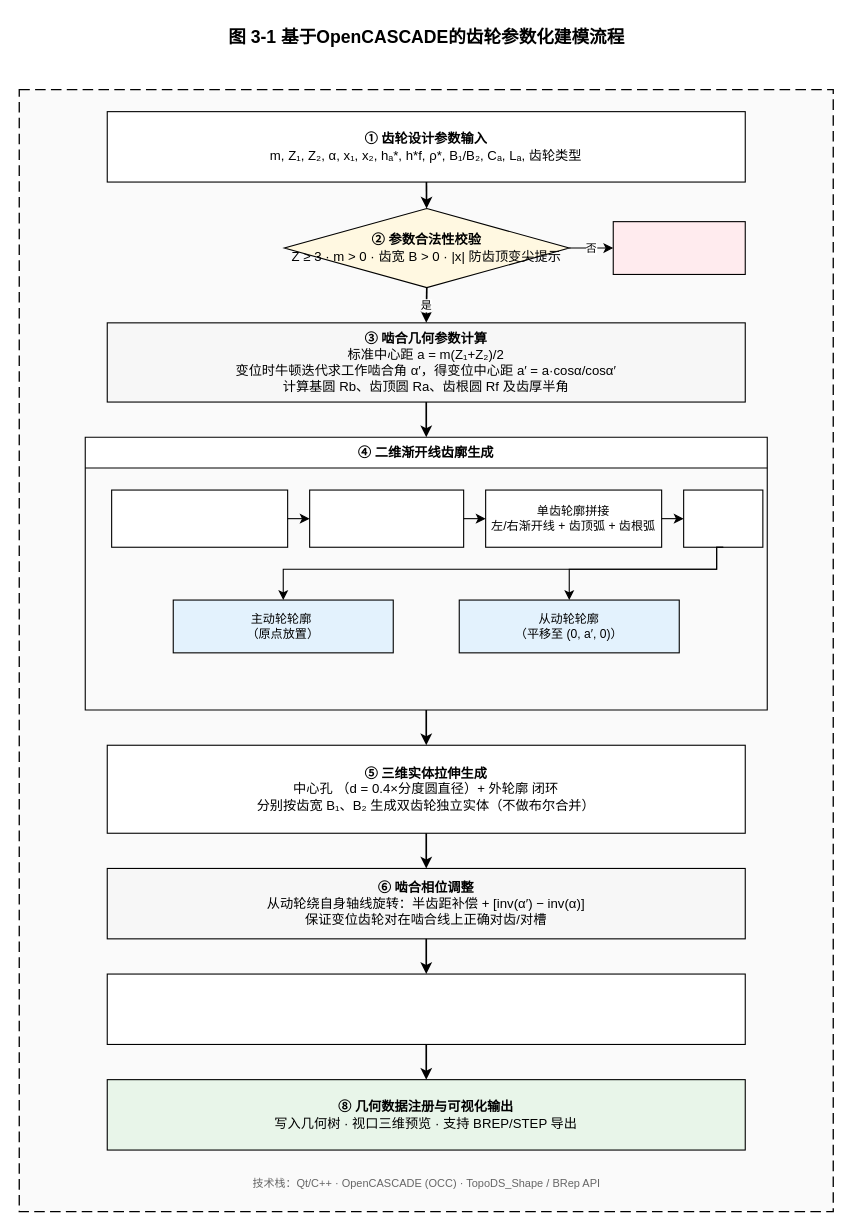
This 854x1231 diagram has some shape labels left out. Each missing label, with the centre of its shape:
⑦ 面语义自动标注 按径向距离与端面法向分类 为后续网格集合识别与边界条件施加提供几何语义: point 425,1008
周向阵列 Z 齿 → 二维齿轮轮廓: point 723,518
提示错误， 终止建模: point 678,247
渐开线参数化采样 θ ∈ [θf, θa]，每齿段 50 点: point 199,518
齿顶抛物线修型 Δr = Ca·(y/Lca)²: point 386,518
